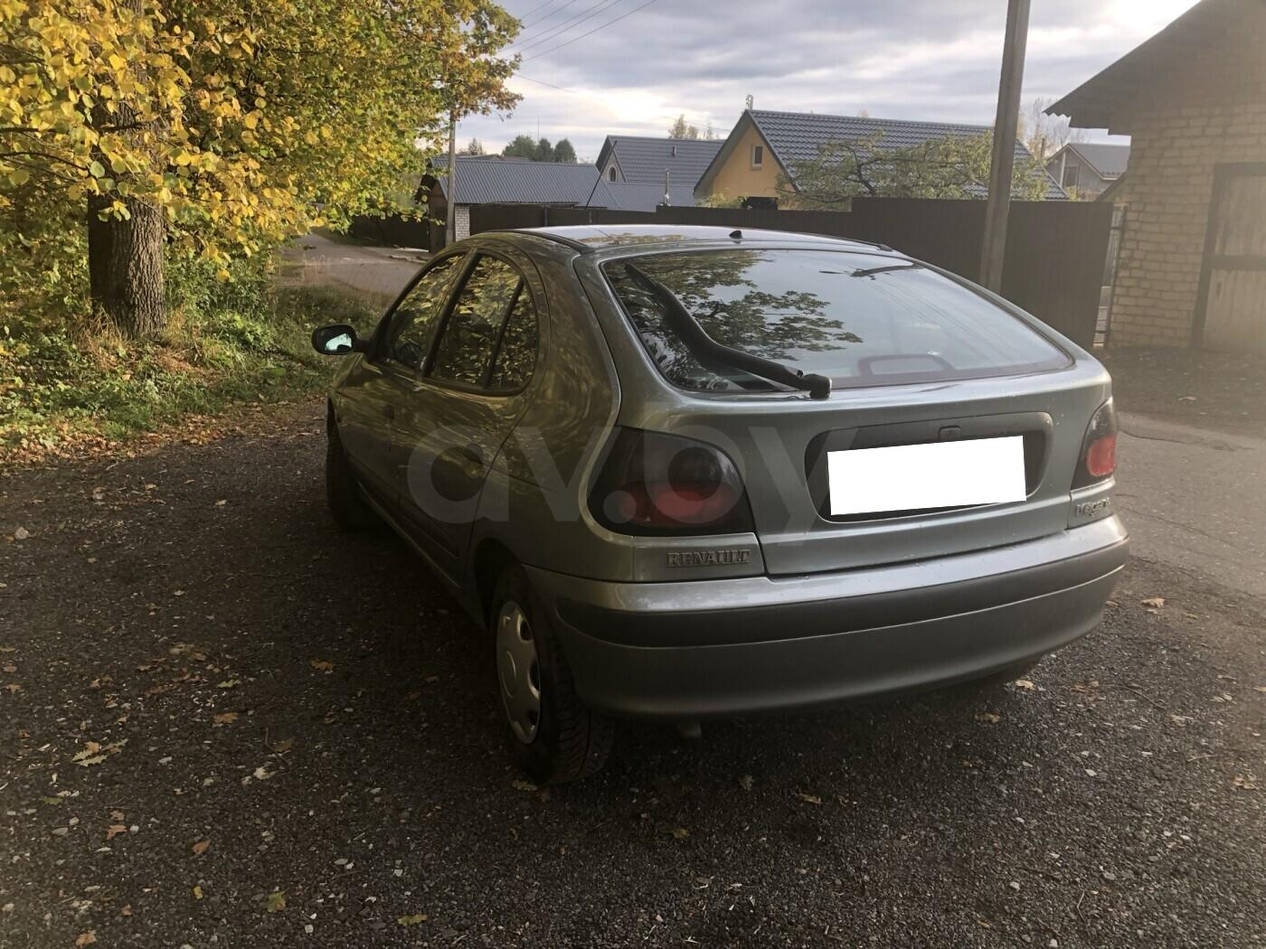Megane_1995-1999: (298, 214, 1147, 790)
